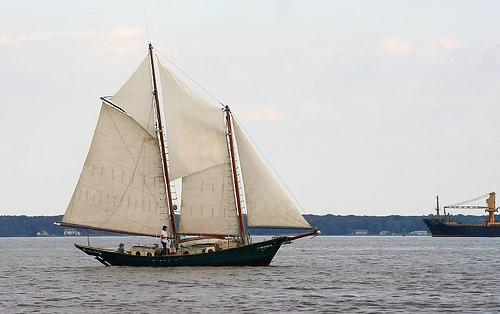Ship: (58, 46, 320, 269), (424, 194, 500, 239)
